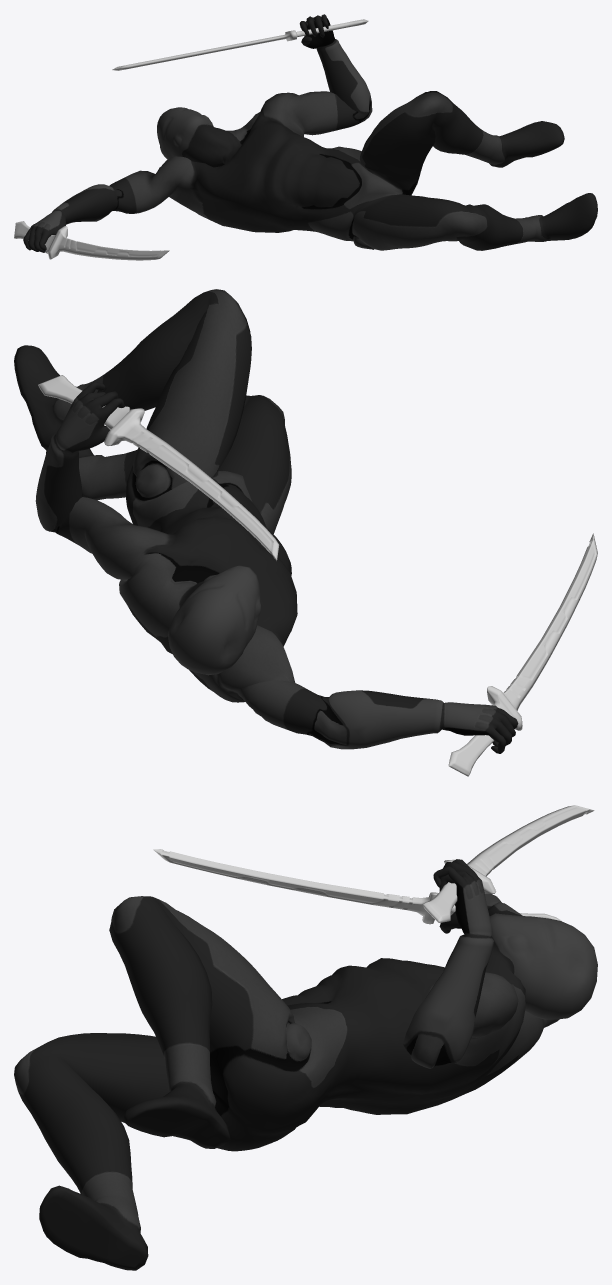
3 renders of one model, top to bottom at view 1: azimuth 30°, elevation 25°; view 2: azimuth 150°, elevation 25°; view 3: azimuth 270°, elevation 25°, orthographic. The views are drawn at different scales.
Visible parts, largest first — view 1: Cyborg_Ninja_Killer, Sword_l001, Sword_l; view 2: Cyborg_Ninja_Killer, Sword_l, Sword_l001; view 3: Cyborg_Ninja_Killer, Sword_l001, Sword_l.
Boxes of the visible parts, left/top/right/bottom form: Cyborg_Ninja_Killer: left=23, top=14, right=597, bottom=252; Sword_l001: left=14, top=221, right=169, bottom=260; Sword_l: left=112, top=19, right=368, bottom=70; Cyborg_Ninja_Killer: left=14, top=289, right=518, bottom=753; Sword_l: left=38, top=375, right=279, bottom=560; Sword_l001: left=448, top=533, right=597, bottom=776; Cyborg_Ninja_Killer: left=14, top=859, right=597, bottom=1270; Sword_l001: left=153, top=849, right=561, bottom=924; Sword_l: left=422, top=805, right=594, bottom=922.
Bounding box in the file's own units: 172 × 70.16 × 122.
